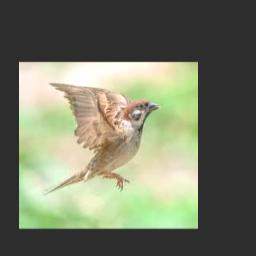Sparrow: (42, 83, 162, 195)
